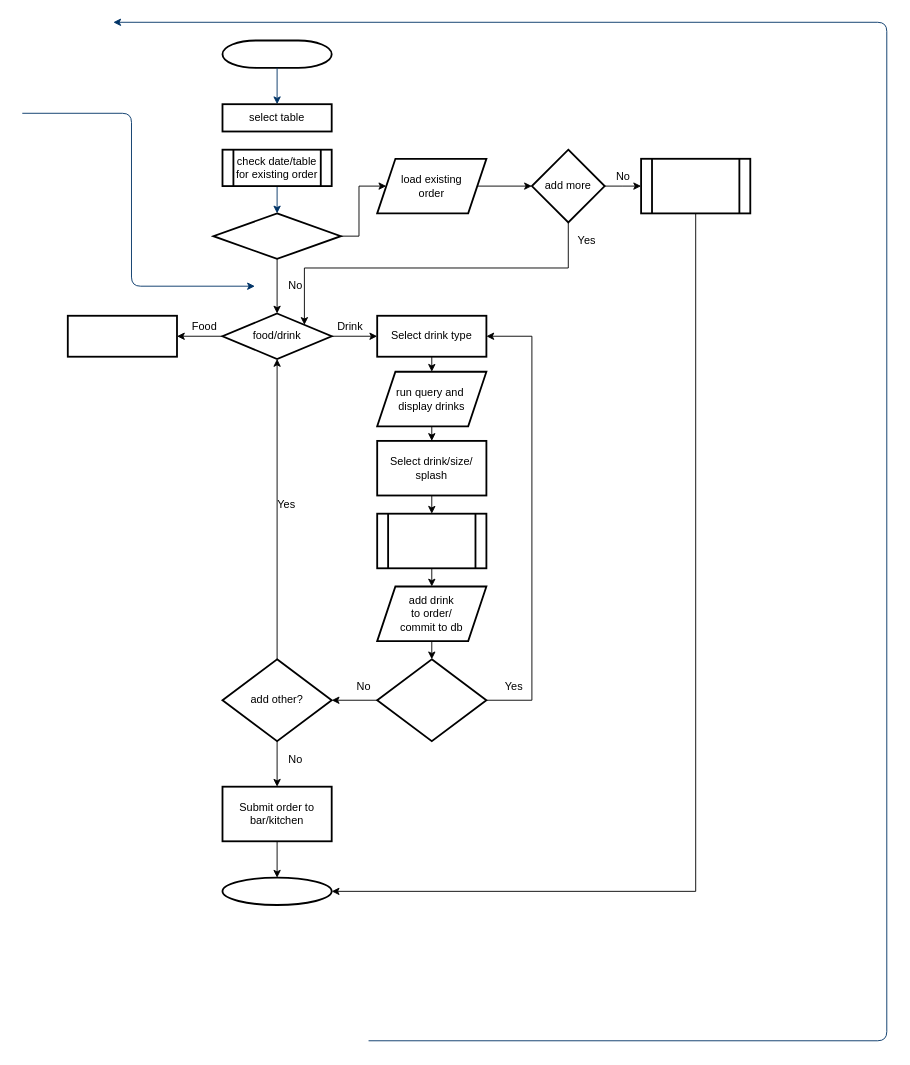
Some shapes in this 910 by 1065 pixel diagram are drawn without their labels. Each missing label, with the box of its shape:
add another drink?: (376, 658, 487, 742)
calculate cost: (376, 512, 487, 569)
existing order?: (212, 212, 341, 259)
Home/End: (221, 876, 332, 905)
prepare bill: (640, 157, 751, 214)
start: (221, 39, 332, 68)
